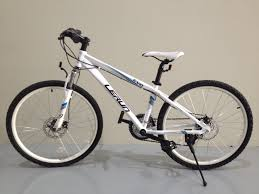bicycle: (6, 24, 254, 188)
